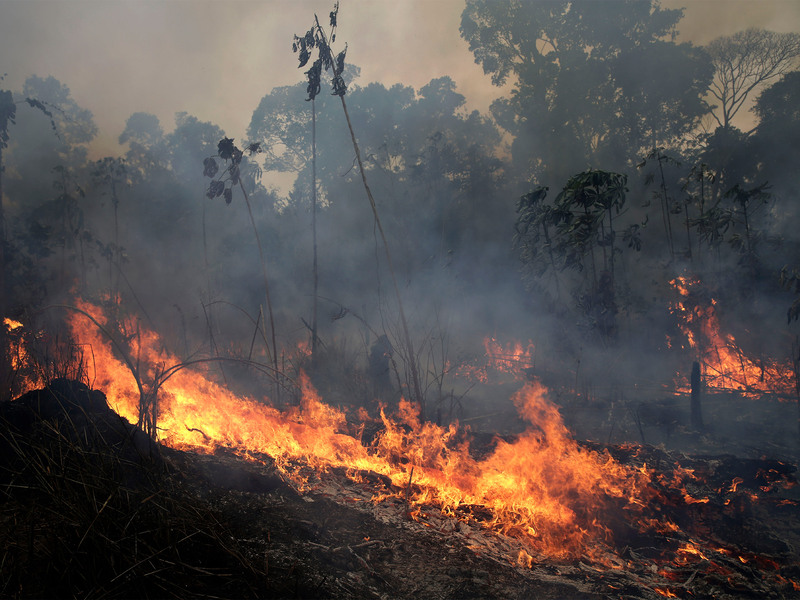fire: (93, 330, 617, 540)
